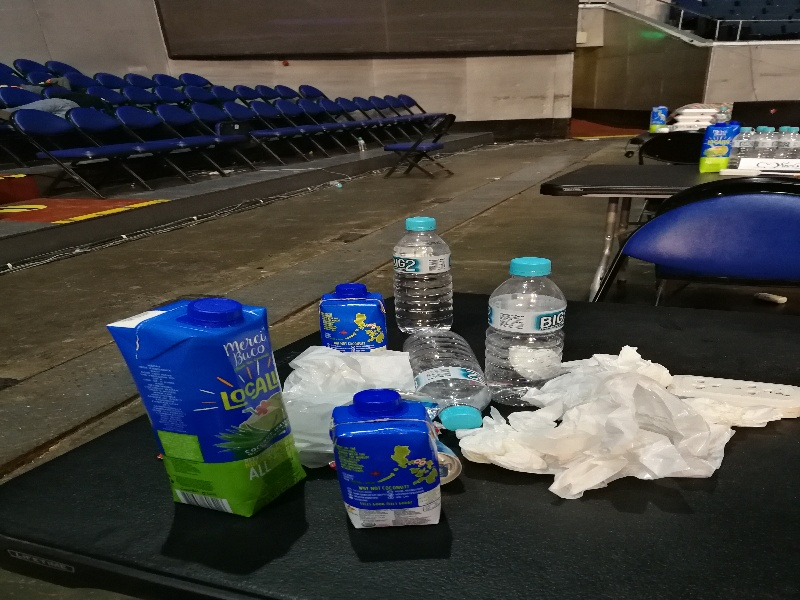PET #1: (486, 254, 570, 415), (405, 323, 489, 434), (387, 212, 455, 335), (736, 124, 758, 174), (759, 120, 780, 168), (781, 126, 800, 163)
